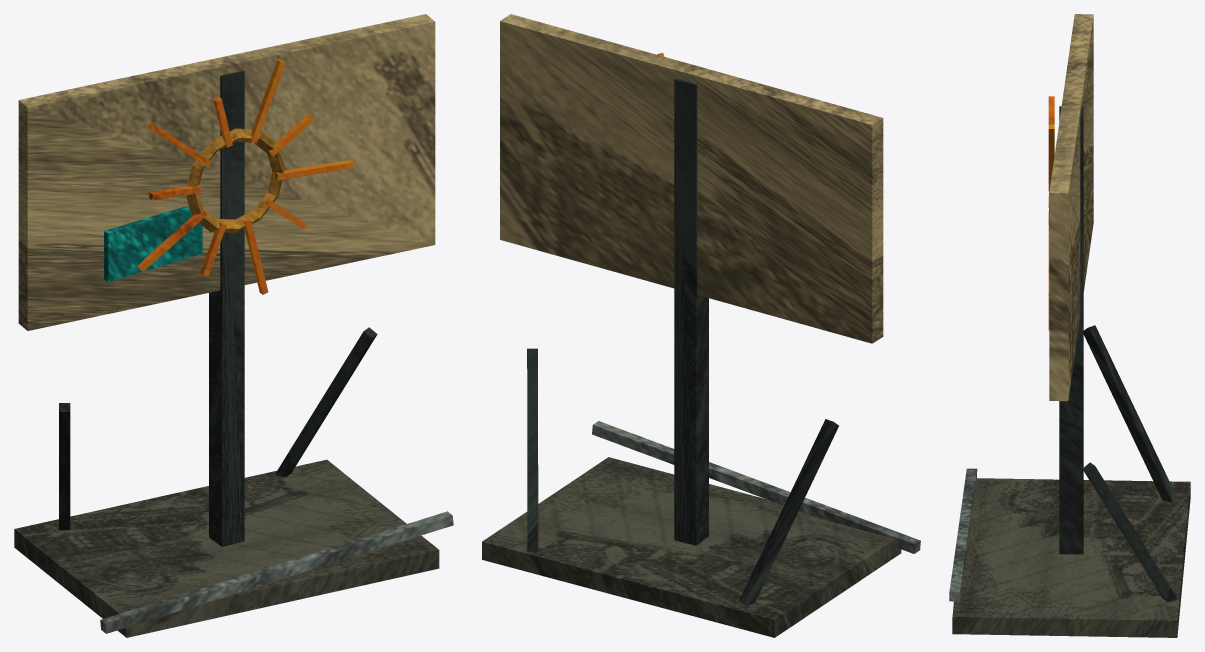
File: west-starburst-billboard.glb
3 renders of one model, left to right at view 1: azimuth 30°, elevation 25°; view 2: azimuth 150°, elevation 25°; view 3: azimuth 270°, elevation 25°, orthographic. The views are drawn at different scales.
Parts seen in each view (by area): view 1: west-starburst-billboard; view 2: west-starburst-billboard; view 3: west-starburst-billboard.
Part boxes in pixels (left/top/right/bottom): west-starburst-billboard: left=14, top=14, right=453, bottom=637; west-starburst-billboard: left=482, top=14, right=920, bottom=637; west-starburst-billboard: left=949, top=14, right=1190, bottom=637.
Size of the model in its own units: 4.9 by 5.9 by 2.79.
Materials: 1 (1 with a texture image).
